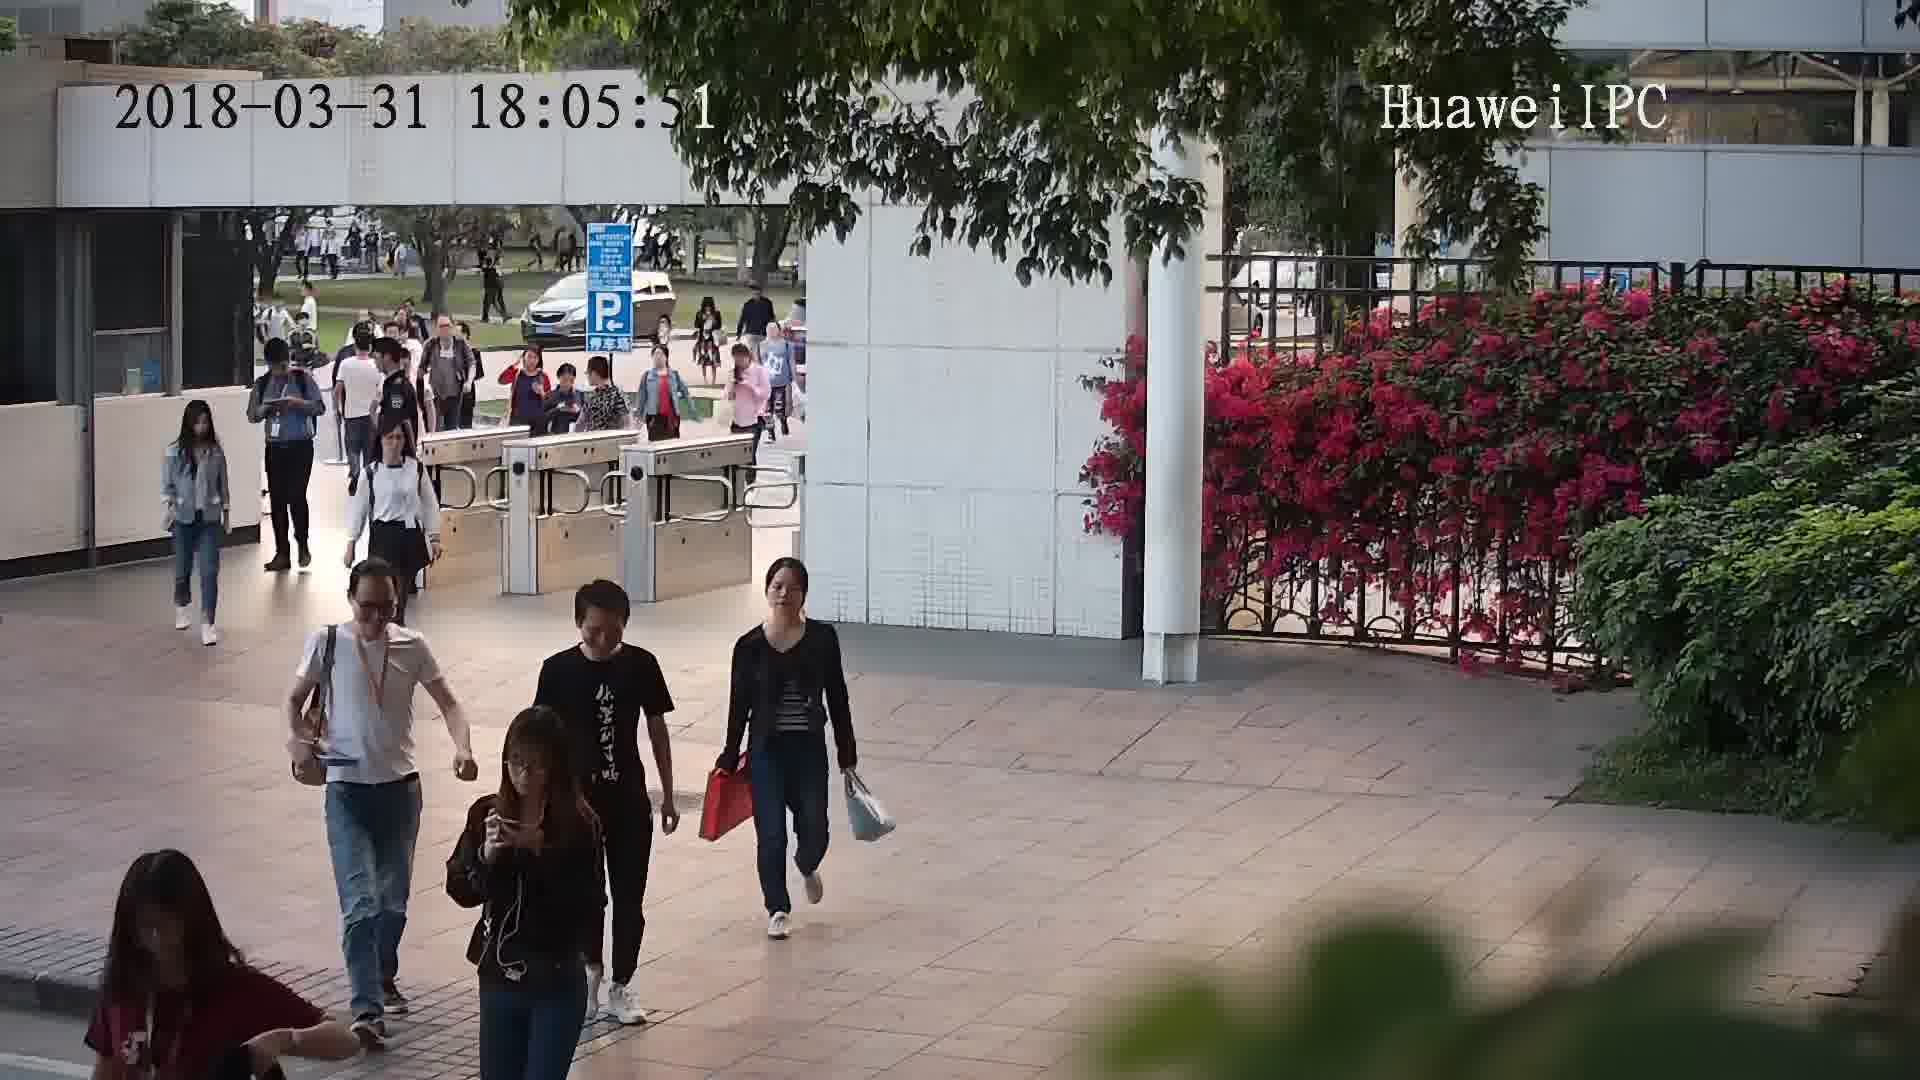face: (130, 892, 196, 958), (498, 734, 561, 797), (345, 573, 398, 637), (575, 601, 627, 653), (764, 564, 807, 619)
person: (93, 848, 287, 1029), (469, 709, 598, 844), (536, 575, 658, 690), (308, 554, 429, 670), (730, 555, 836, 658), (163, 396, 224, 461), (363, 418, 423, 478), (253, 336, 312, 393), (372, 336, 414, 395), (336, 329, 380, 383), (424, 309, 470, 359), (582, 352, 624, 400), (726, 339, 770, 384), (510, 340, 552, 387), (644, 337, 682, 386), (757, 317, 792, 352), (287, 312, 321, 346), (551, 361, 583, 396), (742, 280, 776, 309), (296, 279, 322, 312), (697, 293, 725, 323)
